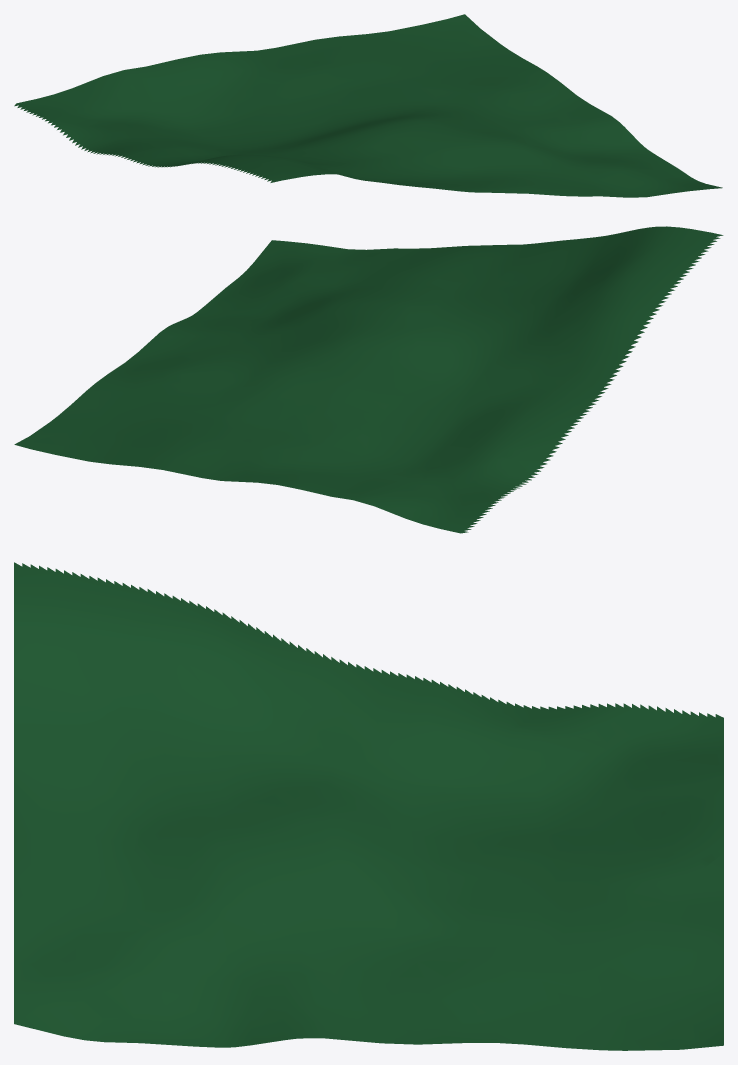
Rendered from payo_land_xm2_ym3_lod2.glb.
3 renders of one model, top to bottom at view 1: azimuth 30°, elevation 25°; view 2: azimuth 150°, elevation 25°; view 3: azimuth 270°, elevation 25°, orthographic. The views are drawn at different scales.
Visible parts, largest first — view 1: payo_land_xm2_ym3; view 2: payo_land_xm2_ym3; view 3: payo_land_xm2_ym3.
Part boxes in pixels (x1,y1,x2,y2): payo_land_xm2_ym3: (14,14,722,197); payo_land_xm2_ym3: (14,226,723,533); payo_land_xm2_ym3: (14,562,723,1050).
Size of the model in its own units: 258 by 73.4 by 255.
